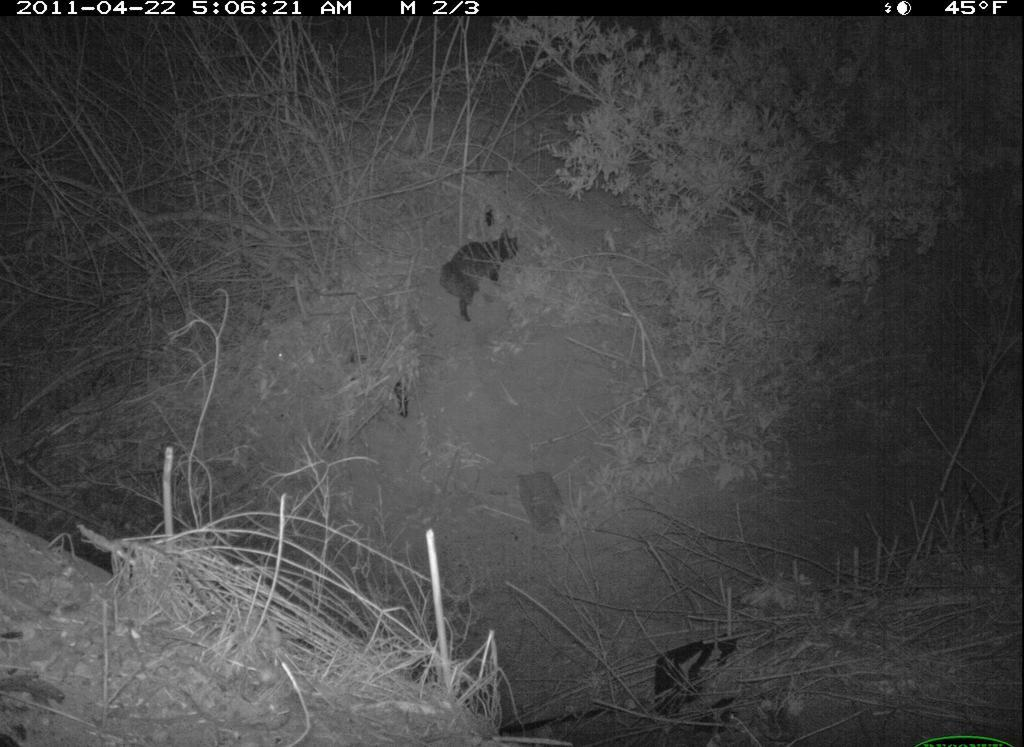cat: (437, 205, 525, 323)
